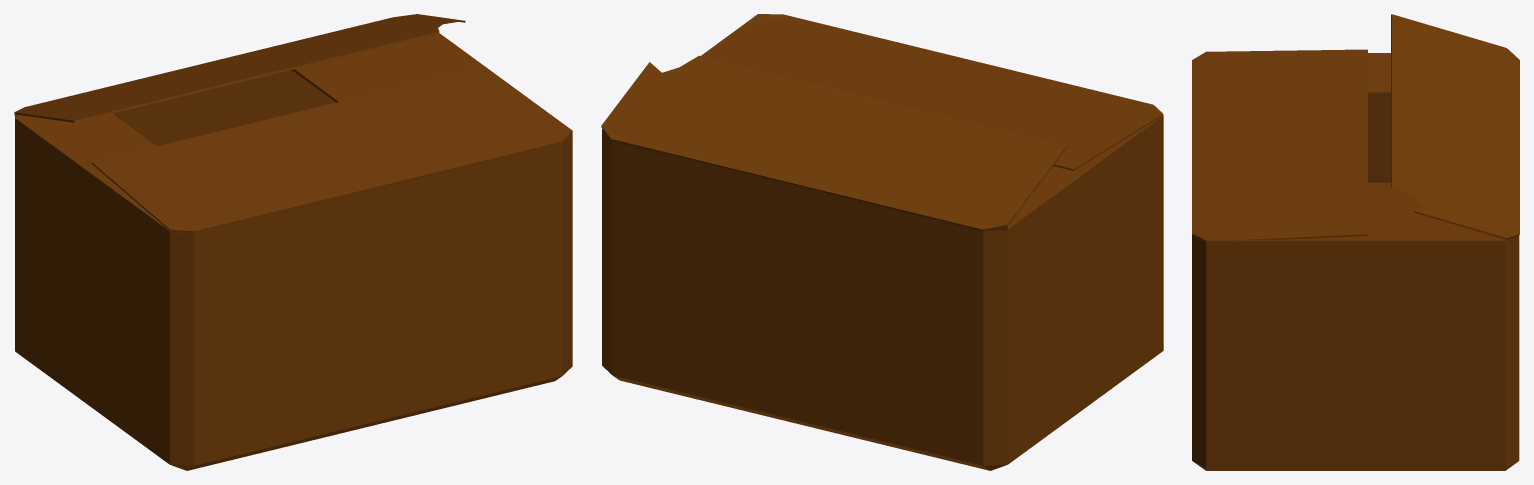
File: BoxOne.glb
3 views of the same model, side by side, from view 1: azimuth 30°, elevation 25°; view 2: azimuth 150°, elevation 25°; view 3: azimuth 270°, elevation 25° (orthographic). The views are drawn at different scales.
Parts seen in each view (by area): view 1: Box One; view 2: Box One; view 3: Box One.
Boxes of the visible parts, box(x1,y1,x2,y2) form: Box One: box(14, 14, 572, 470); Box One: box(601, 14, 1163, 470); Box One: box(1192, 14, 1519, 470).
Size of the model in its own units: 3.47 by 2.34 by 2.53.
